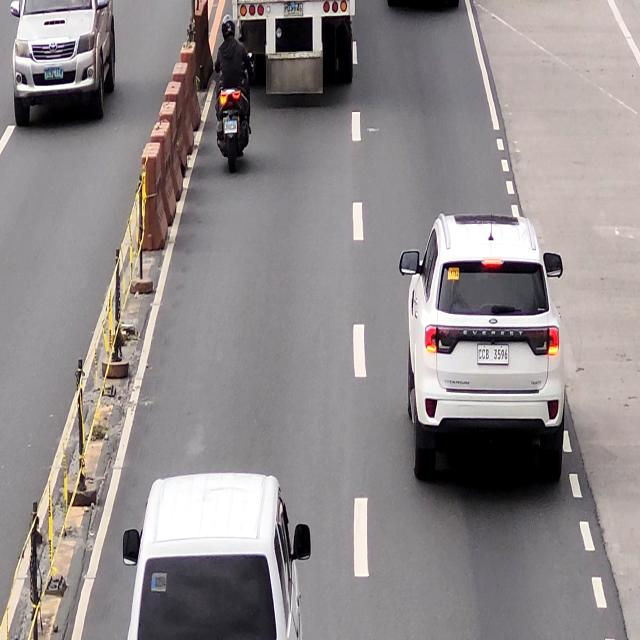Car: (400, 212, 566, 487), (121, 471, 312, 640)
License-Plate: (476, 343, 510, 363), (283, 3, 302, 18), (224, 120, 238, 134)
Motorcycle: (213, 51, 253, 174)
Truck: (232, 0, 356, 87)
